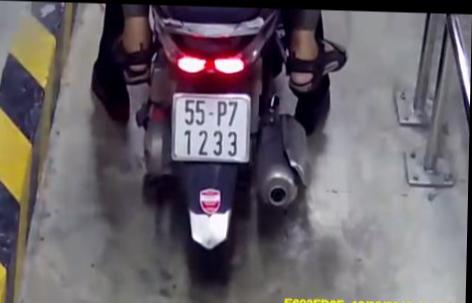LP: (167, 88, 256, 162)
